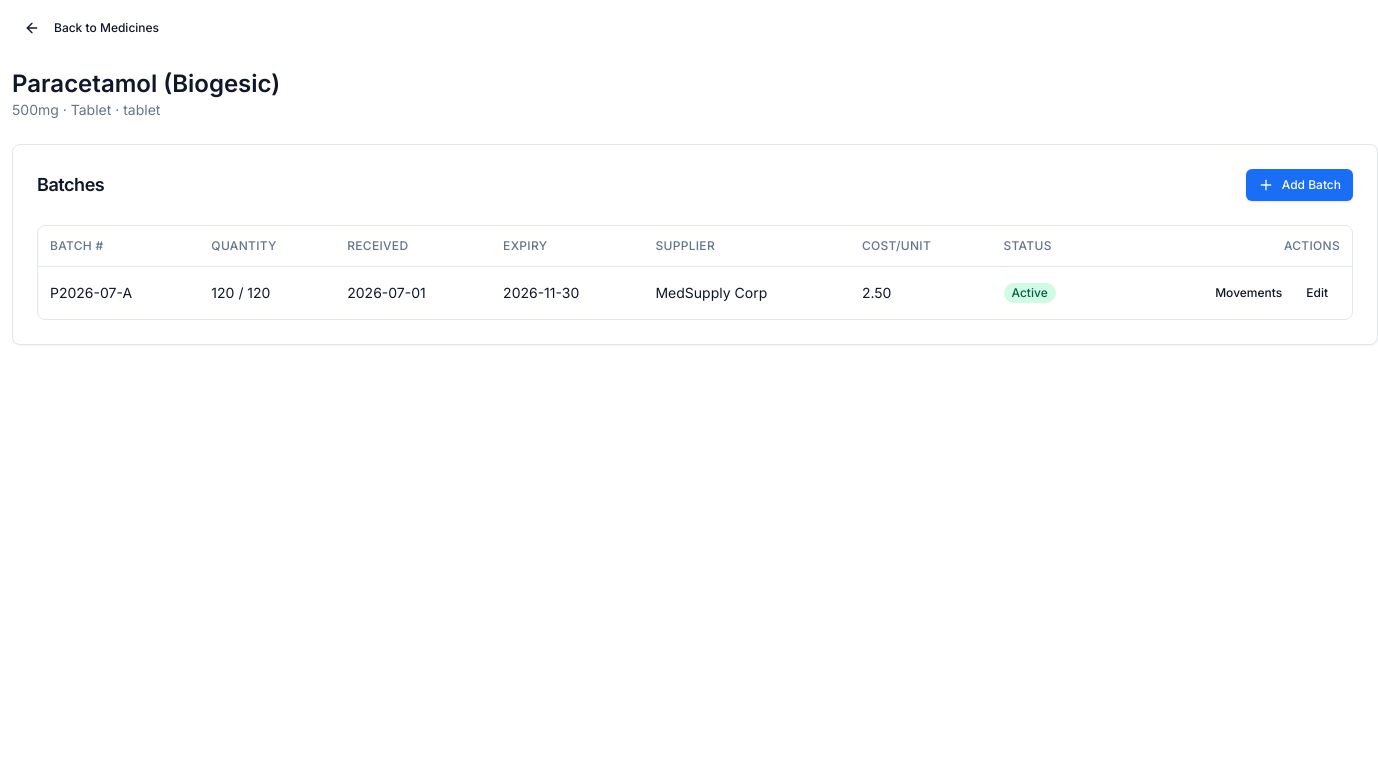
Test: MedicineDetailPage › shows an error state when movement history fails to load
The image size is (1378, 780).
Check: the text "P2026-07-A" is shown, box [38,266,199,318]
Click the button "Movements". click: (1249, 292)
box: [1203,276,1294,308]
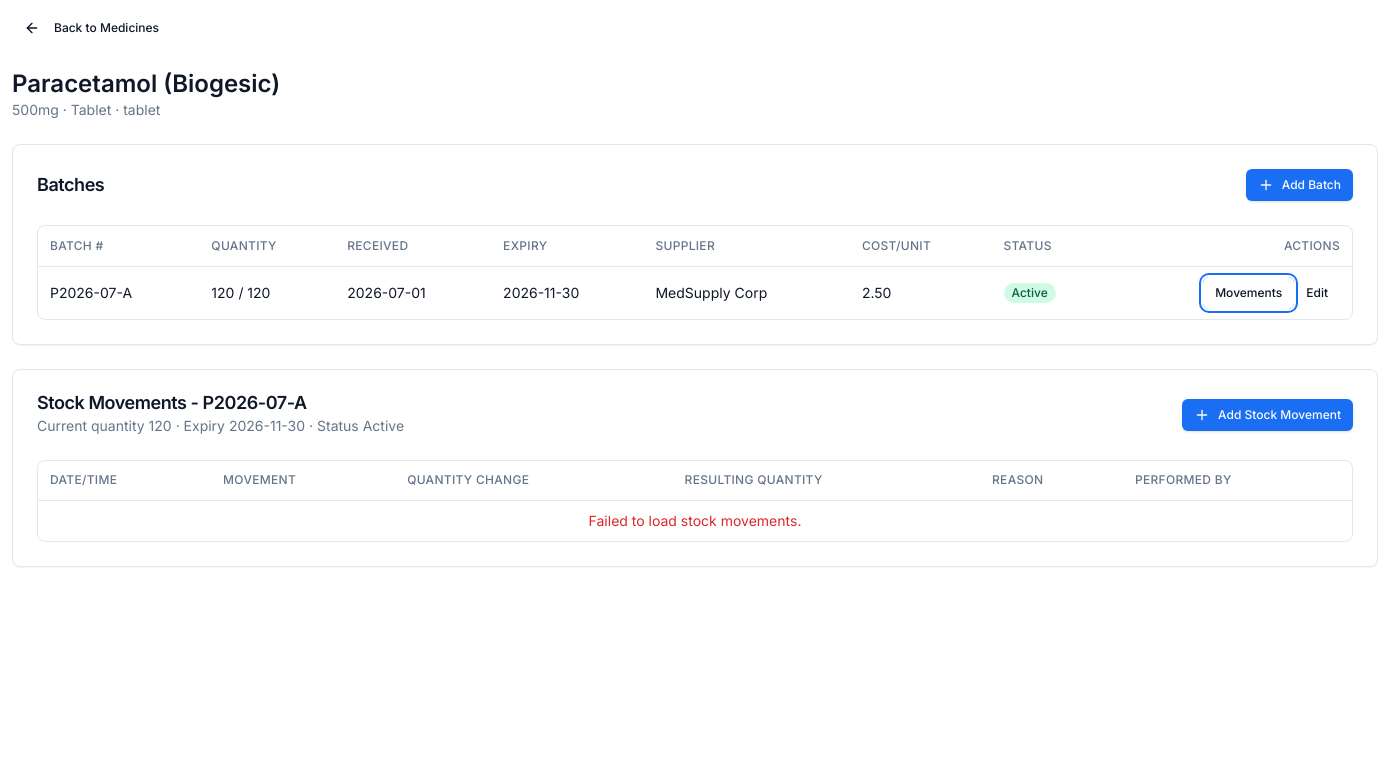
Check: the text "Failed to load stock movements." is shown, box [38,500,1352,541]
